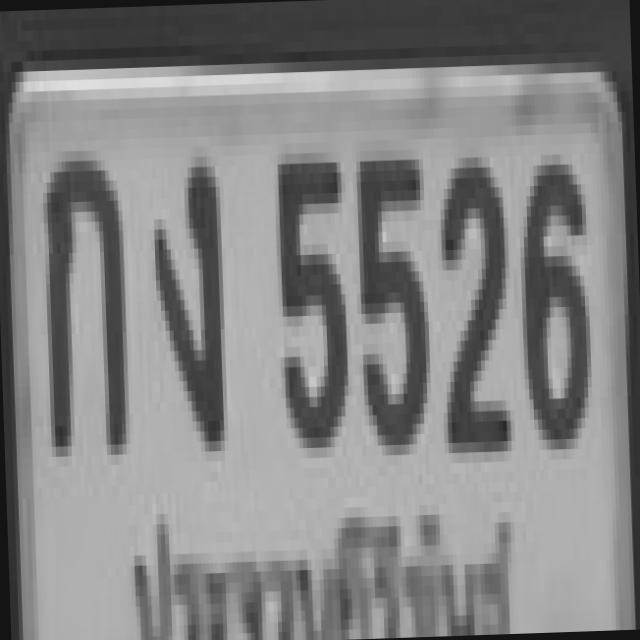10GorGai: (37, 144, 126, 442)
16NgorNgu: (147, 146, 224, 442)
2: (434, 146, 506, 442)
5: (351, 138, 428, 446), (268, 142, 346, 438)
6: (513, 154, 589, 440)
PrachuapKhiriKhan: (115, 488, 521, 640)
